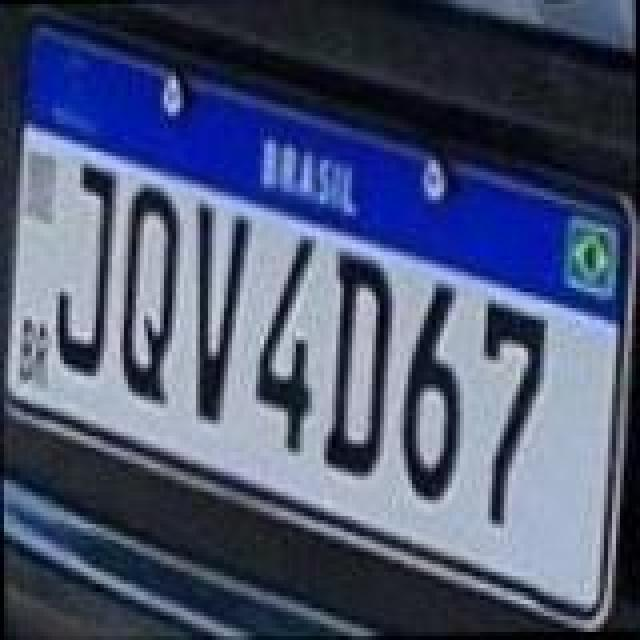4: (250, 238, 318, 454)
6: (400, 284, 468, 508)
7: (484, 298, 552, 526)
D: (318, 248, 394, 484)
J: (54, 158, 122, 378)
Q: (118, 184, 186, 412)
V: (194, 200, 254, 424)
